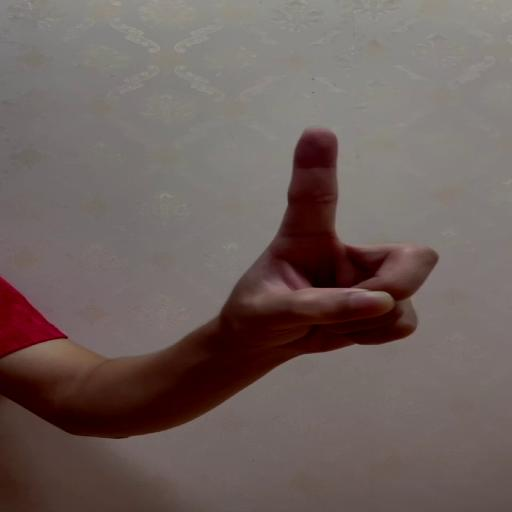point: (270, 123, 441, 346)
